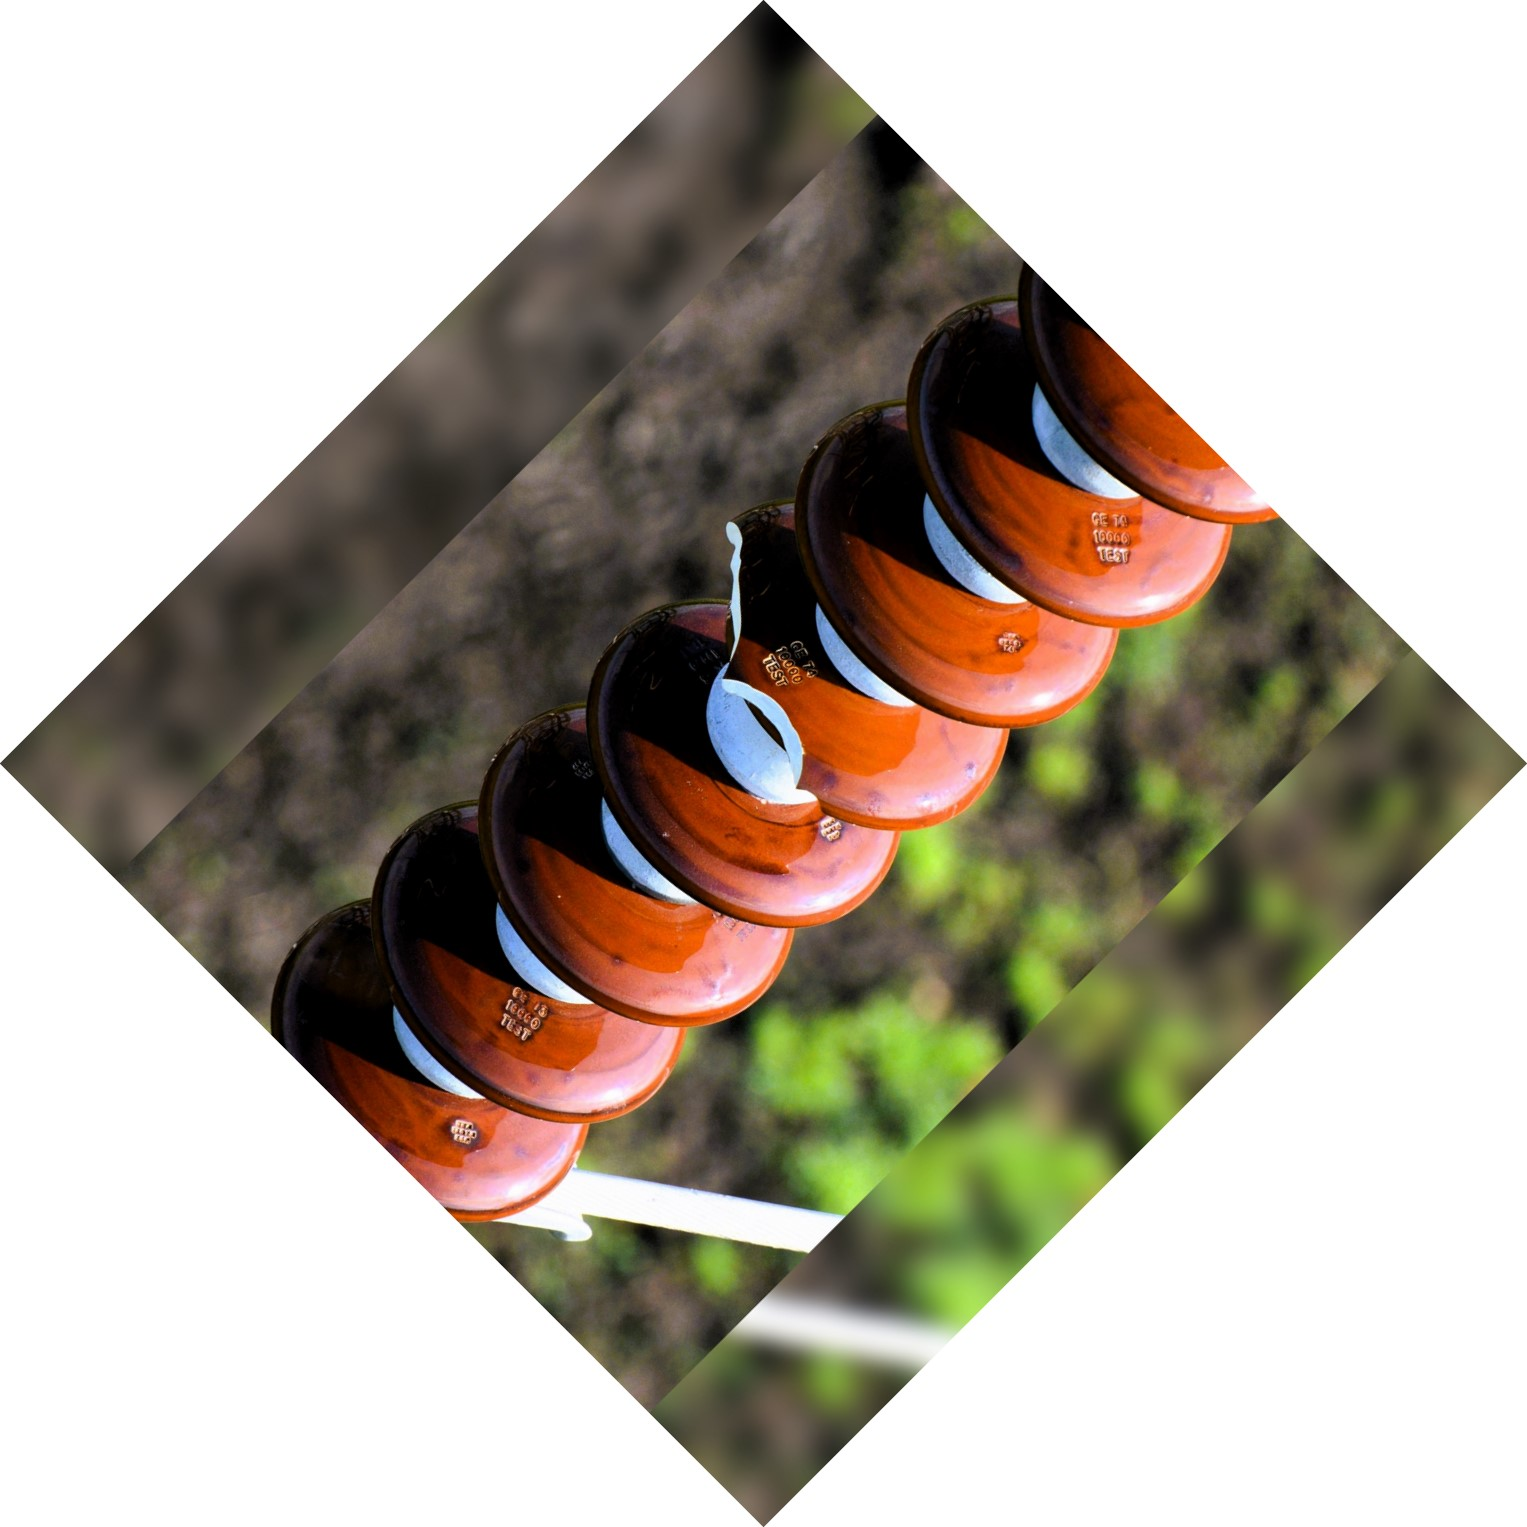insulator breakage: (696, 501, 1012, 843)
